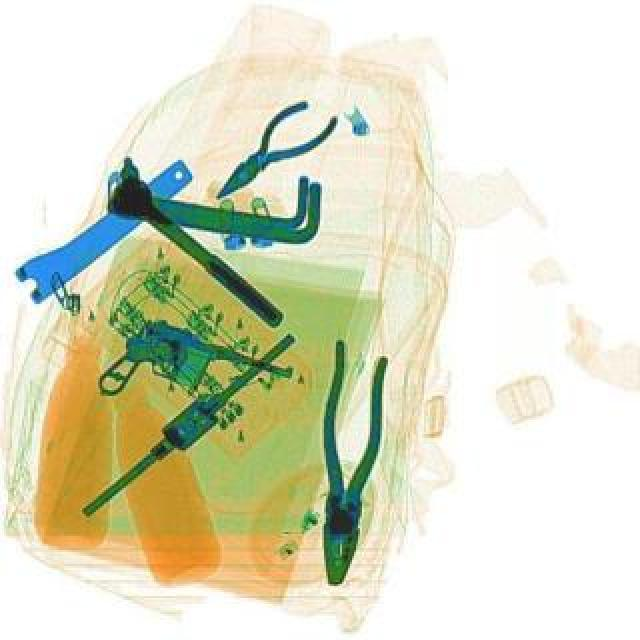gun: (90, 306, 294, 452)
wrench: (302, 336, 390, 584), (196, 86, 342, 216)
